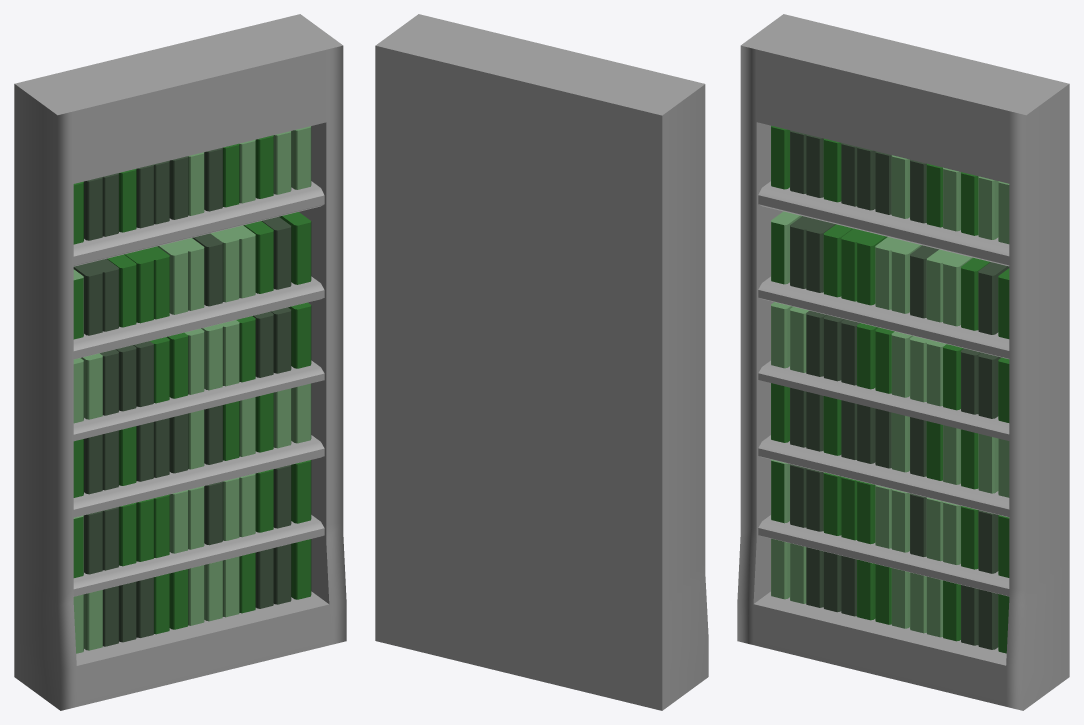
File: Bookshelf_Mesh.fbx
3 renders of one model, left to right at view 1: azimuth 30°, elevation 25°; view 2: azimuth 150°, elevation 25°; view 3: azimuth 330°, elevation 25°, orthographic.
Visible parts, largest first — view 1: bookshelf, bookshelfbooks13; view 2: bookshelf; view 3: bookshelf, bookshelfbooks13.
Part boxes in pixels (<box>): bookshelf: <box>14,14,346,710</box>; bookshelfbooks13: <box>73,126,311,653</box>; bookshelf: <box>375,14,708,710</box>; bookshelf: <box>737,14,1069,710</box>; bookshelfbooks13: <box>771,125,1009,653</box>.
Size of the model in its own units: 151 by 300 by 42.27.
